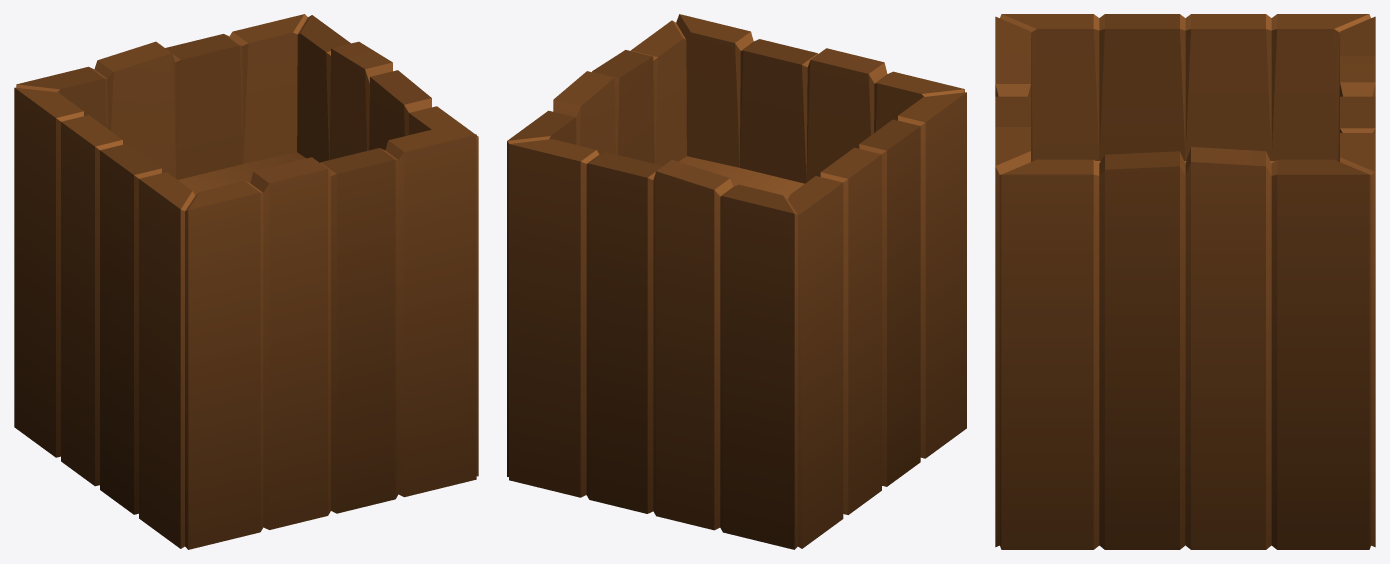
Rendered from Stall-0-3.fbx.
3 views of the same model, side by side, from view 1: azimuth 30°, elevation 25°; view 2: azimuth 150°, elevation 25°; view 3: azimuth 270°, elevation 25° (orthographic). The views are drawn at different scales.
Parts seen in each view (by area): view 1: Stall-0-3; view 2: Stall-0-3; view 3: Stall-0-3.
Boxes of the visible parts, box(x1,y1,x2,y2) form: Stall-0-3: box(14, 14, 478, 549); Stall-0-3: box(507, 14, 966, 549); Stall-0-3: box(995, 14, 1375, 549).
Size of the model in its own units: 142 by 160 by 142.
